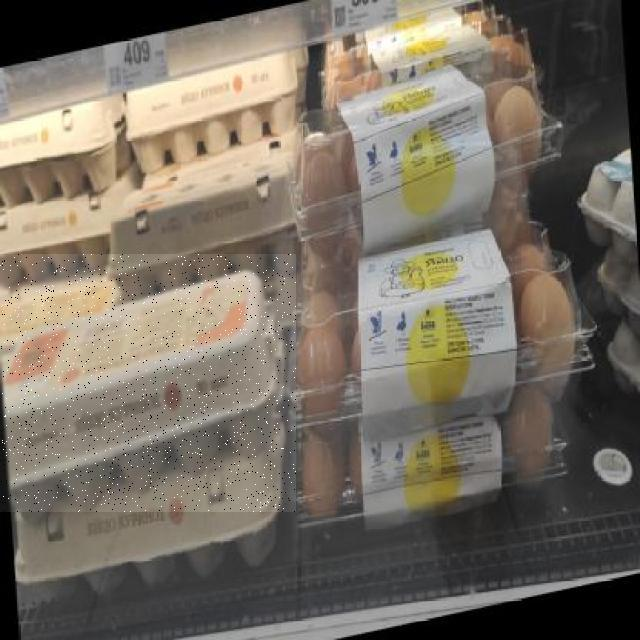Eggs: (1, 254, 297, 512)
